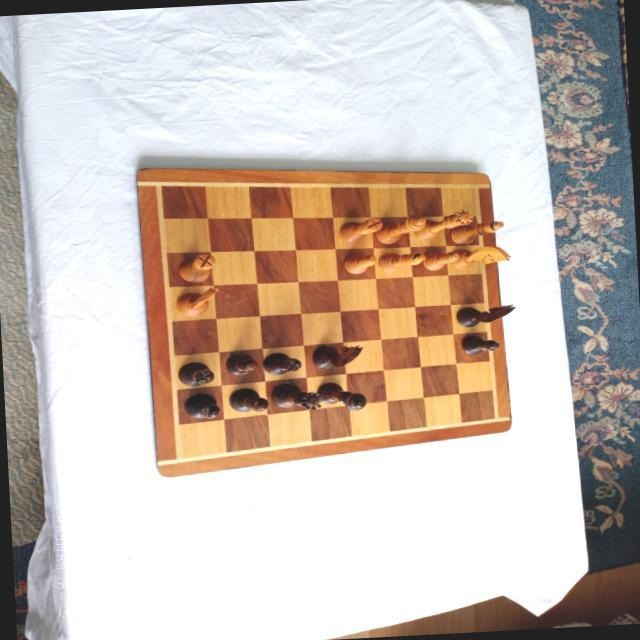black-bishop: (227, 386, 268, 414), (184, 393, 220, 421)
black-king: (317, 381, 367, 413)
black-knight: (311, 343, 364, 371), (455, 304, 516, 328)
black-pawn: (460, 333, 499, 355), (224, 352, 255, 376)
black-queen: (271, 381, 323, 412)
black-rook: (177, 361, 215, 387), (262, 351, 301, 376)
white-bishop: (450, 219, 504, 246), (377, 250, 426, 273)
white-king: (374, 213, 426, 244)
white-knight: (448, 245, 511, 270), (176, 287, 220, 317)
white-pawn: (420, 249, 459, 271), (342, 252, 377, 276)
white-queen: (410, 210, 473, 242)
white-rook: (337, 218, 382, 244), (177, 253, 215, 283)
